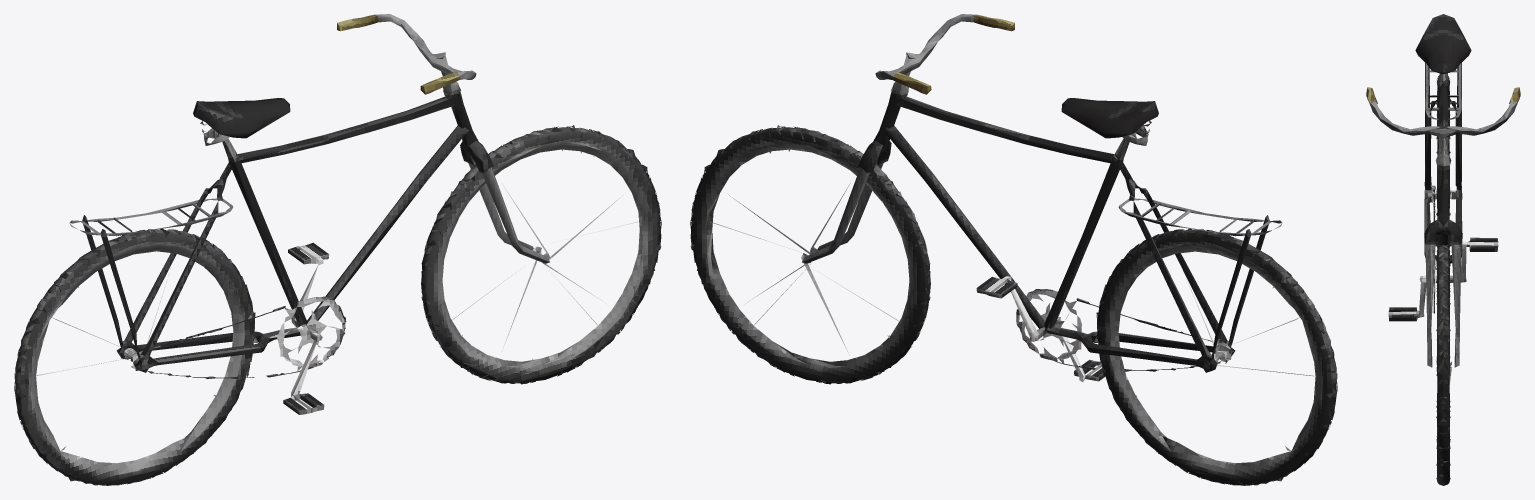
File: bicycle_old.glb
3 views of the same model, side by side, from view 1: azimuth 30°, elevation 25°; view 2: azimuth 150°, elevation 25°; view 3: azimuth 270°, elevation 25° (orthographic). The views are drawn at different scales.
Visible parts, largest first — view 1: mesh; view 2: mesh; view 3: mesh.
Part boxes in pixels (x1,y1,x2,y2): mesh: [14, 14, 661, 485]; mesh: [690, 14, 1337, 485]; mesh: [1366, 14, 1520, 485].
Bounding box in the file's own units: 1.92 × 1.05 × 0.455.
1 material, 1 textured.
